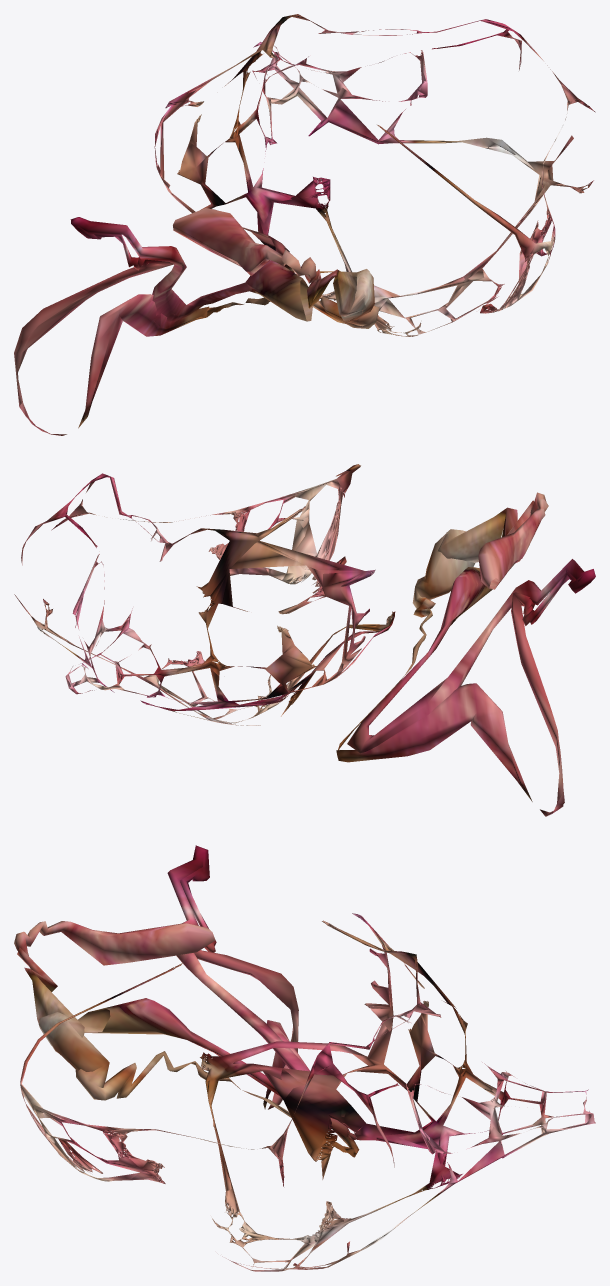
Rendered from particle1.glb.
3 views of the same model, one above another, from view 1: azimuth 30°, elevation 25°; view 2: azimuth 150°, elevation 25°; view 3: azimuth 270°, elevation 25° (orthographic). The views are drawn at different scales.
Parts seen in each view (by area): view 1: drawsel.001; view 2: drawsel.001; view 3: drawsel.001.
Boxes of the visible parts, box(x1,y1,x2,y2) form: drawsel.001: box(14, 14, 595, 435); drawsel.001: box(14, 464, 595, 816); drawsel.001: box(14, 845, 595, 1271).
Bounding box in the file's own units: 1021 × 503 × 867.
Materials: 1 (1 with a texture image).
